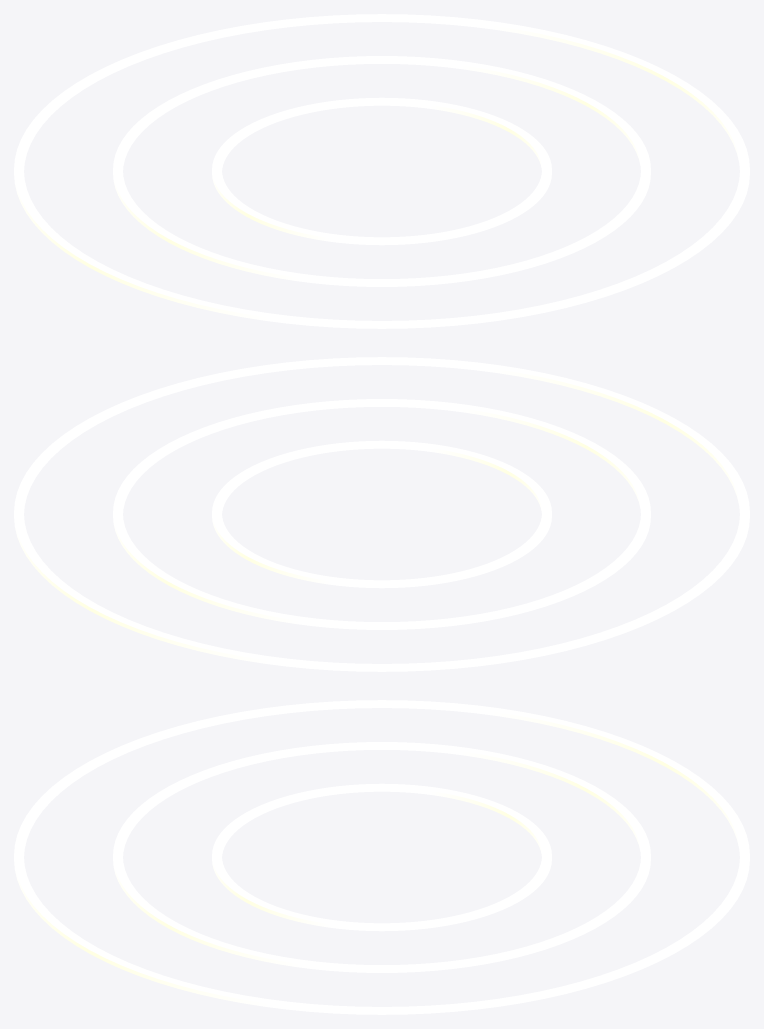
The model's file is bb_set_compring.fbx.
3 views of the same model, one above another, from view 1: azimuth 30°, elevation 25°; view 2: azimuth 150°, elevation 25°; view 3: azimuth 270°, elevation 25° (orthographic).
Parts seen in each view (by area): view 1: bb_set_compring; view 2: bb_set_compring; view 3: bb_set_compring.
Boxes of the visible parts, x1,y1,x2,y2 form: bb_set_compring: [14, 14, 749, 328]; bb_set_compring: [14, 357, 749, 671]; bb_set_compring: [14, 700, 749, 1014].
Size of the model in its own units: 8.92 by 0.05 by 8.92.
